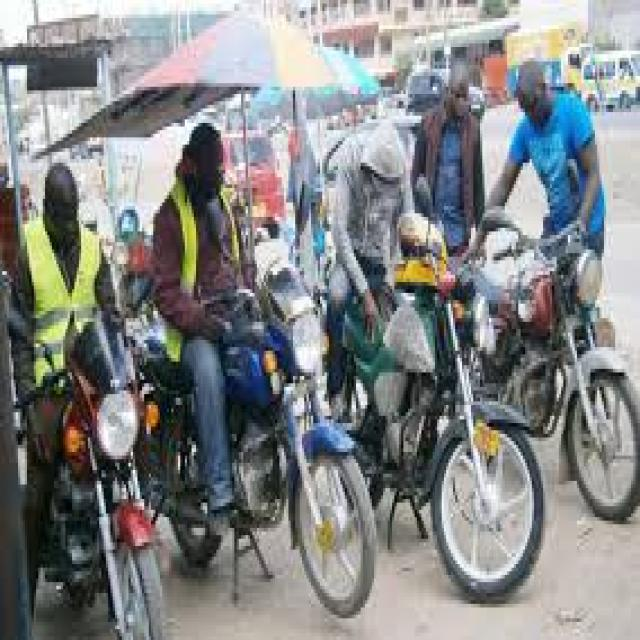bodaboda: (116, 220, 381, 627), (329, 160, 546, 622), (449, 108, 640, 530), (0, 208, 177, 640)
